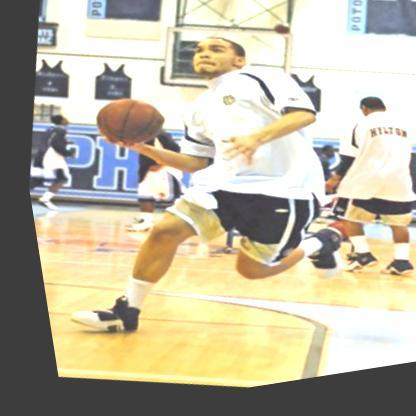basketball: (84, 88, 164, 157)
